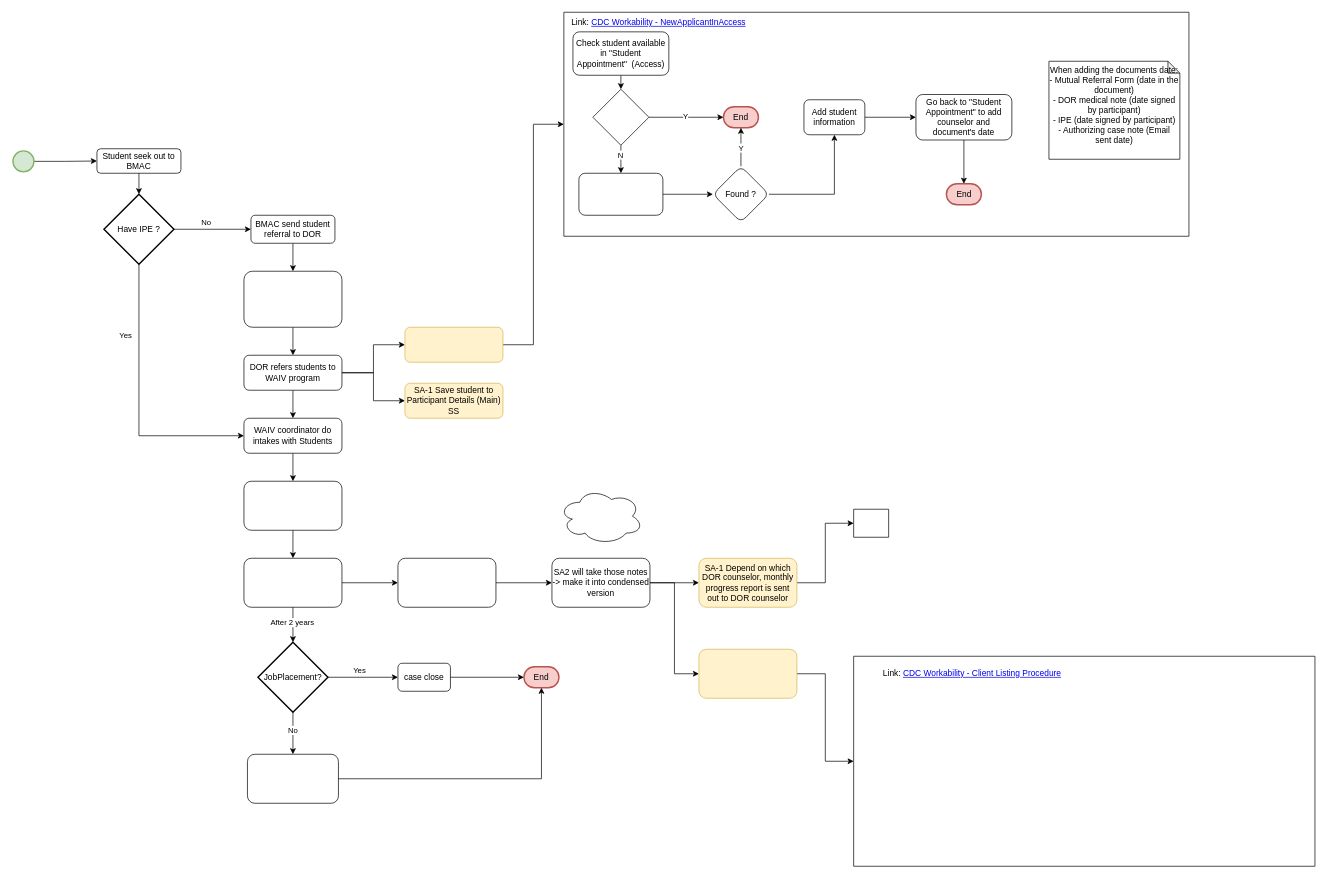
Image size: 1327x879. Some labels were removed from this diagram. The shapes that lost their labels are listed below. From the top down, each one's centre as x and y in pixels, then its label:
pixel 620 117: Found?
pixel 620 194: In Switchboard -> "Reactivate / Add new student record"
pixel 292 299: DOR do intakes for students (create IPE, gather documents DR260, DR222, ...)
pixel 453 344: SA-1 Save student to Access
pixel 292 505: Based on students' interest, WAIV coordinator assigns them to WAIV counselors
pixel 600 516: where it stores currently?
pixel 292 582: WAIV counselor schedules appointments with students
pixel 446 582: After every appointment, WAIV counselor will send detailed note on Outlook
pixel 747 673: Monthly, WAIV would be receiving Monthly Client Listing from DOR (sent to Lexi)
pixel 292 778: WAIV will send cases back to DOR to continue work with students.
